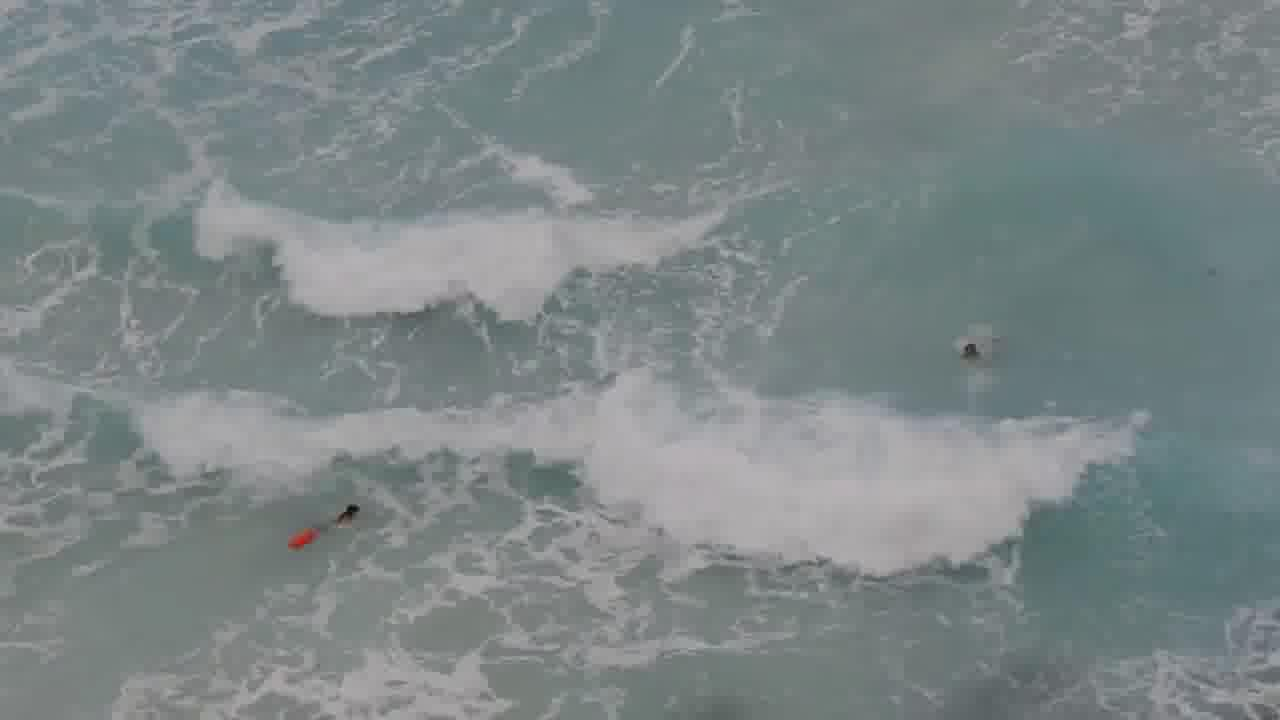human: (331, 486, 374, 536), (947, 336, 989, 365)
